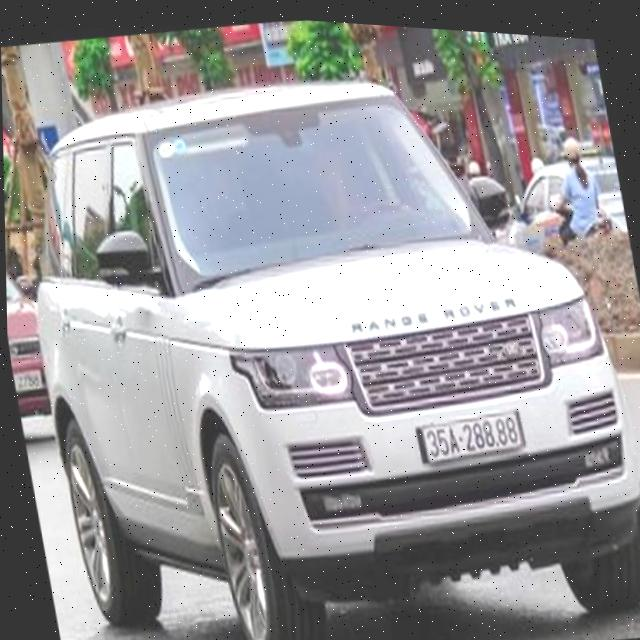car: (0, 20, 640, 640), (5, 237, 59, 428)
plate: (412, 400, 534, 475)
